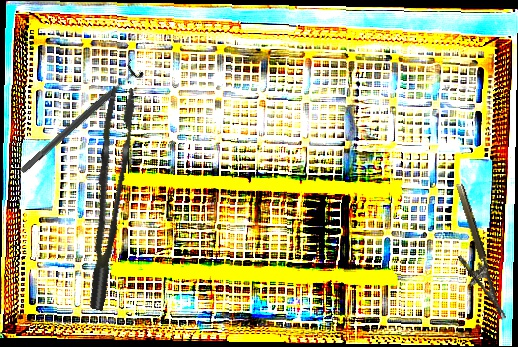Fixation Ring: (14, 57, 146, 181)
Needle Holder: (437, 182, 507, 327)
Tissue Forceps: (59, 83, 157, 312)
